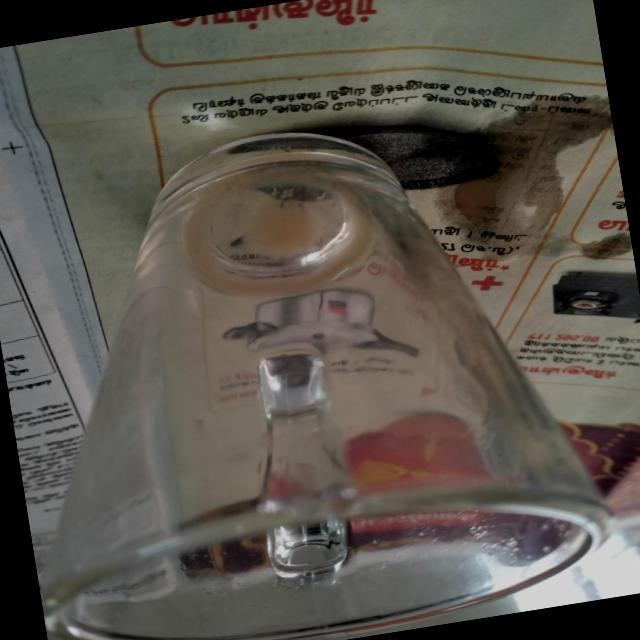glass-VX4N: (0, 87, 625, 640)
